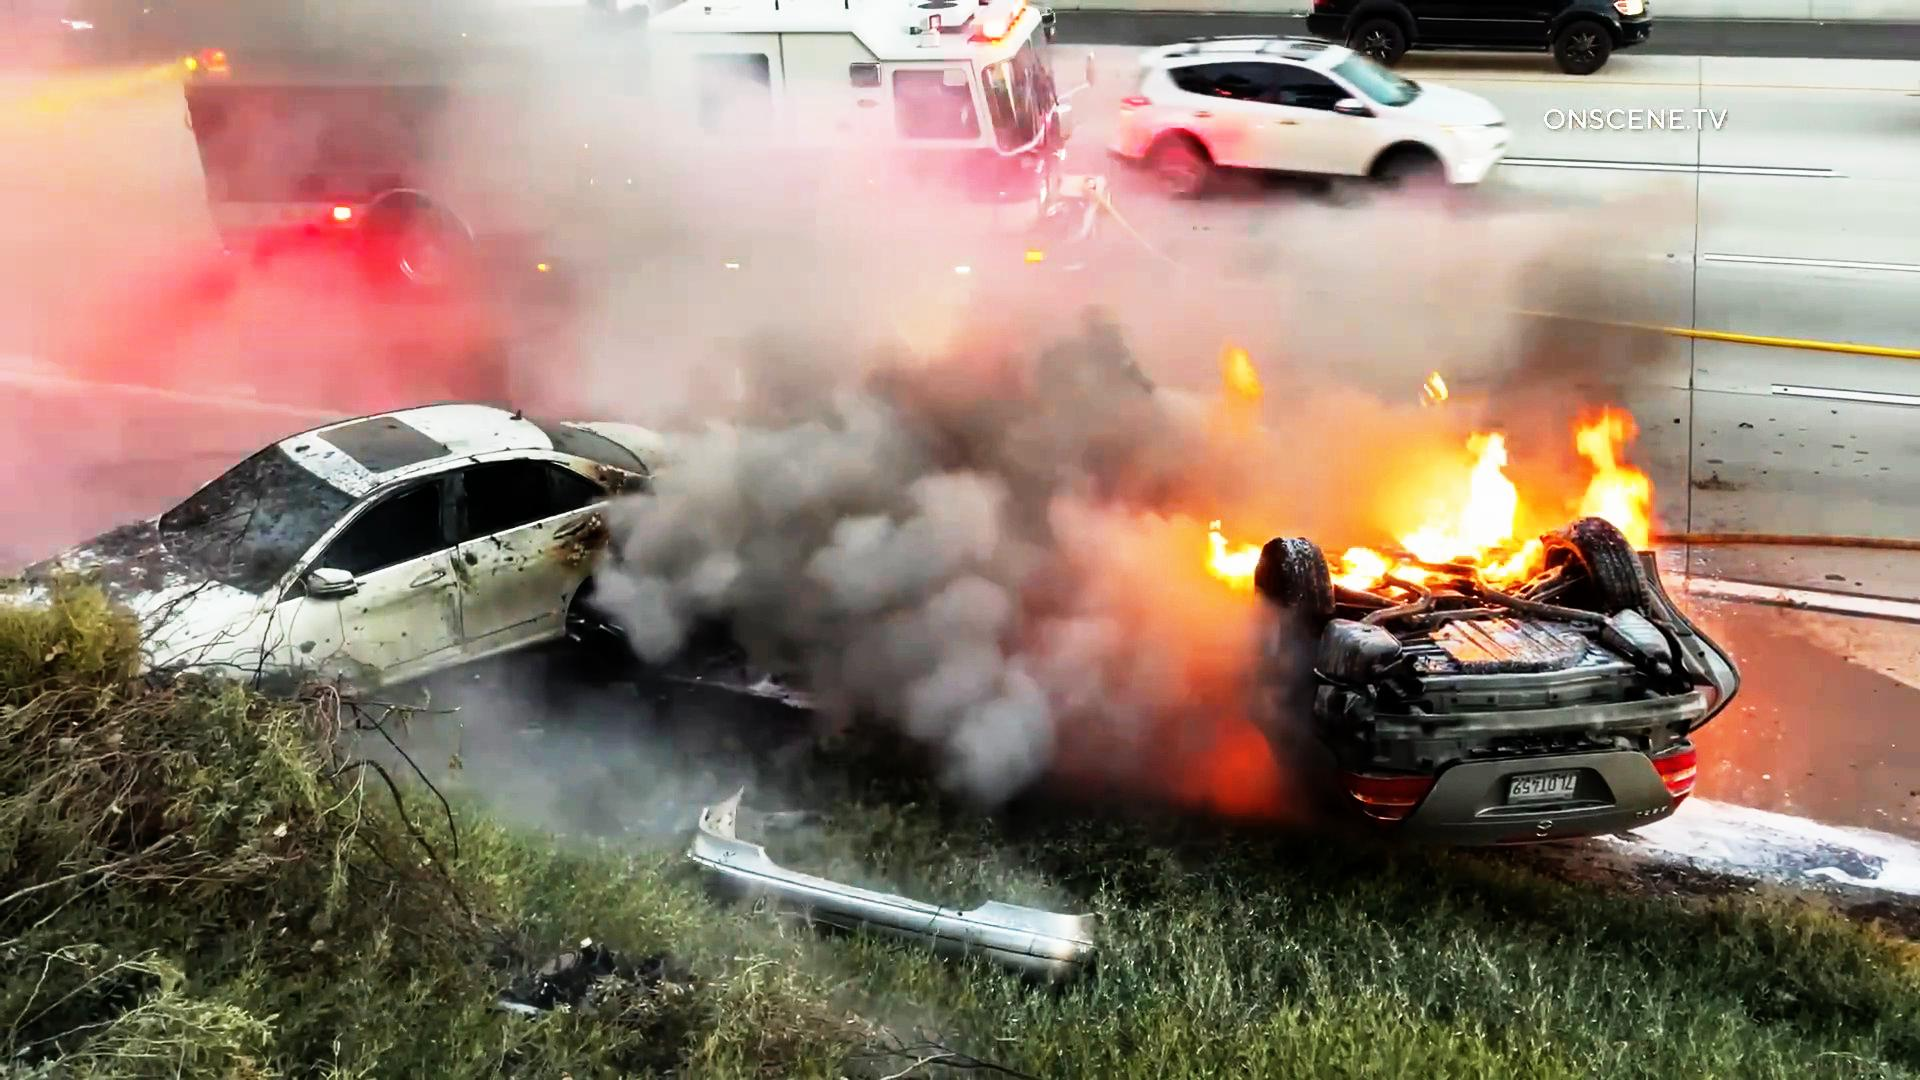fire: (1387, 427, 1548, 588), (1561, 404, 1669, 555), (1218, 347, 1270, 450), (1200, 514, 1267, 592), (1340, 545, 1385, 611)
smoke: (601, 303, 1224, 803), (1383, 189, 1727, 389)
